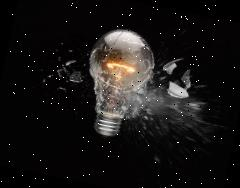lightbulb: (74, 22, 161, 142)
